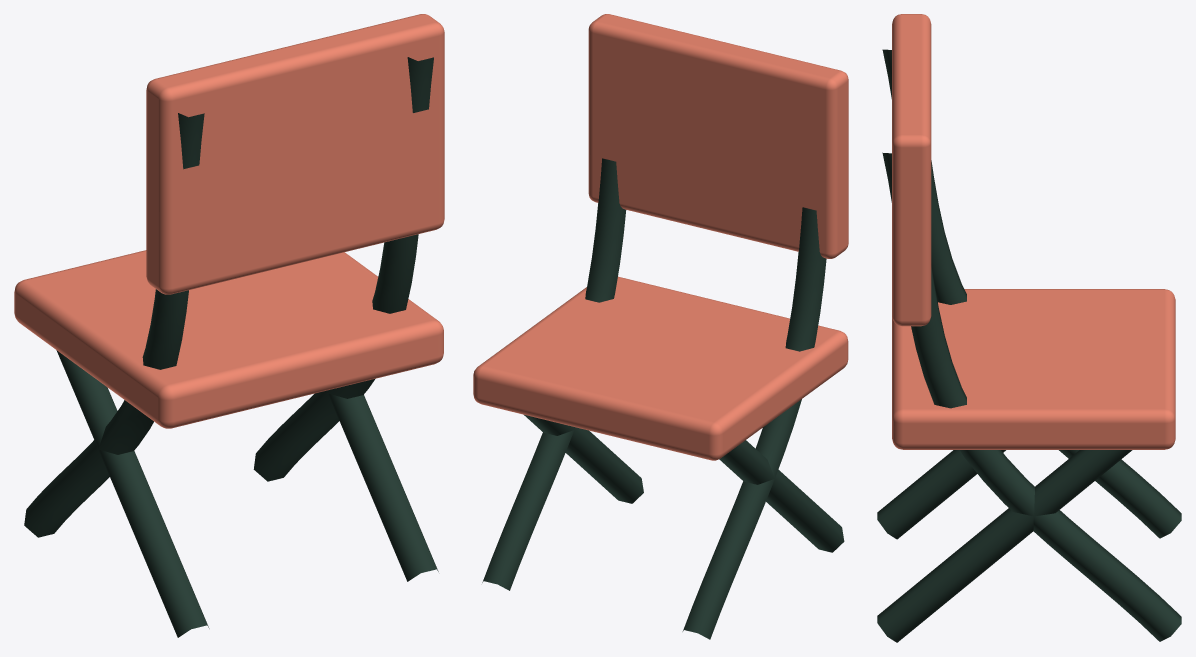
The model's file is folding-chair.glb.
The picture shows the model from 3 angles, left to right: view 1: azimuth 30°, elevation 25°; view 2: azimuth 150°, elevation 25°; view 3: azimuth 270°, elevation 25°; orthographic projection. The views are drawn at different scales.
Visible parts, largest first — view 1: folding_chair; view 2: folding_chair; view 3: folding_chair.
Boxes of the visible parts, x1,y1,x2,y2 form: folding_chair: (14,14,444,637); folding_chair: (473,14,848,639); folding_chair: (877,14,1181,642).
Size of the model in its own units: 0.62 by 1.16 by 0.6227.
